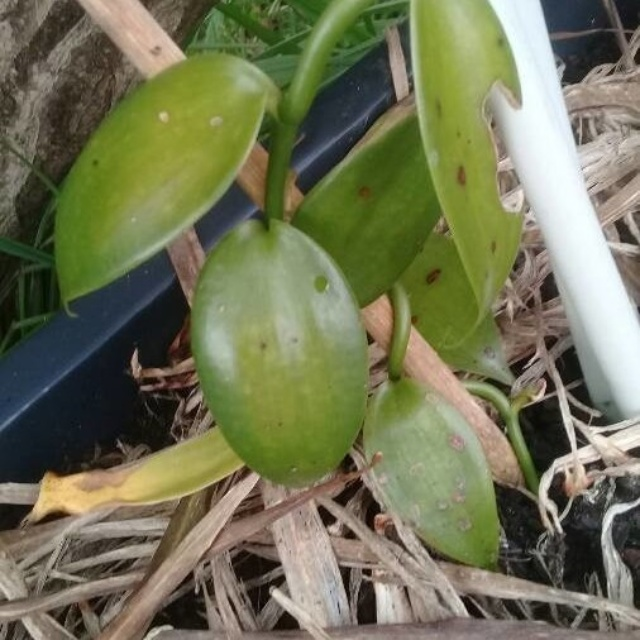obstacle: (43, 59, 489, 543)
